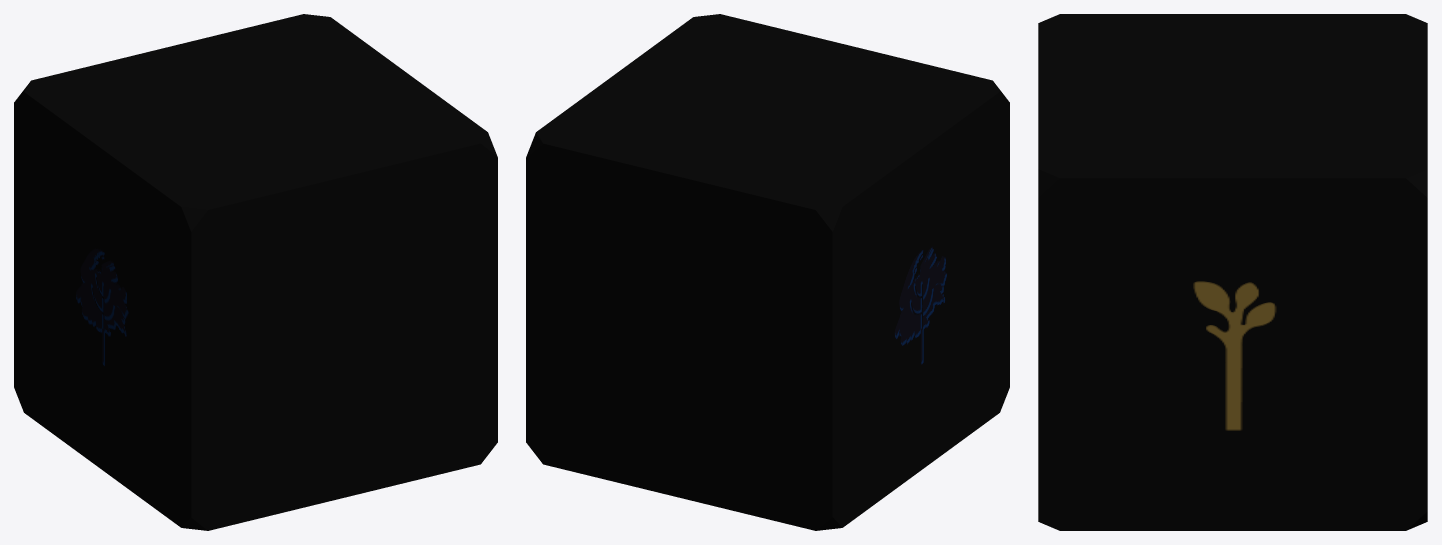
Rendered from Cubie.glb.
3 views of the same model, side by side, from view 1: azimuth 30°, elevation 25°; view 2: azimuth 150°, elevation 25°; view 3: azimuth 270°, elevation 25° (orthographic). The views are drawn at different scales.
Parts seen in each view (by area): view 1: CenteredCube; view 2: CenteredCube; view 3: CenteredCube.
Boxes of the visible parts, x1=… form: CenteredCube: x1=14, y1=14, x2=497, y2=530; CenteredCube: x1=526, y1=14, x2=1009, y2=530; CenteredCube: x1=1038, y1=14, x2=1427, y2=530.
Size of the model in its own units: 1 by 1 by 1.
Materials: 1 (1 with a texture image).
